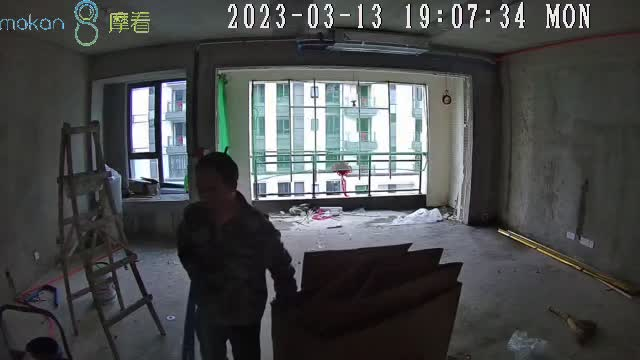people: (176, 152, 298, 360)
window: (250, 80, 425, 198), (128, 80, 190, 189)
